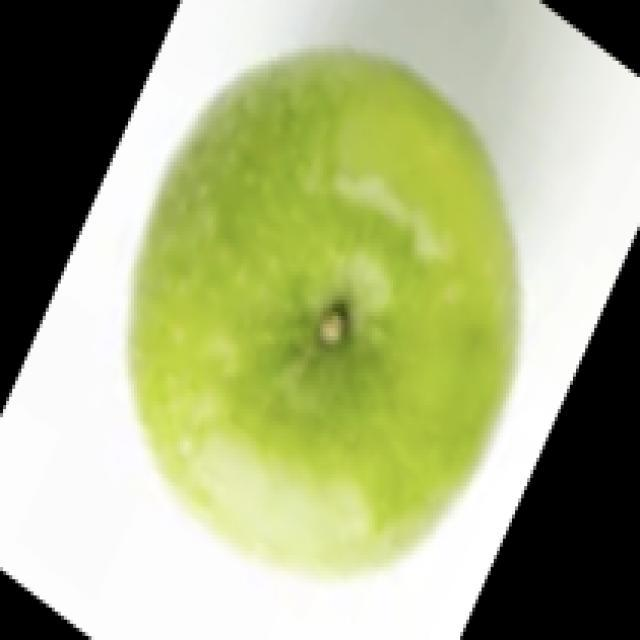Fresh Apple: (155, 77, 515, 555)
